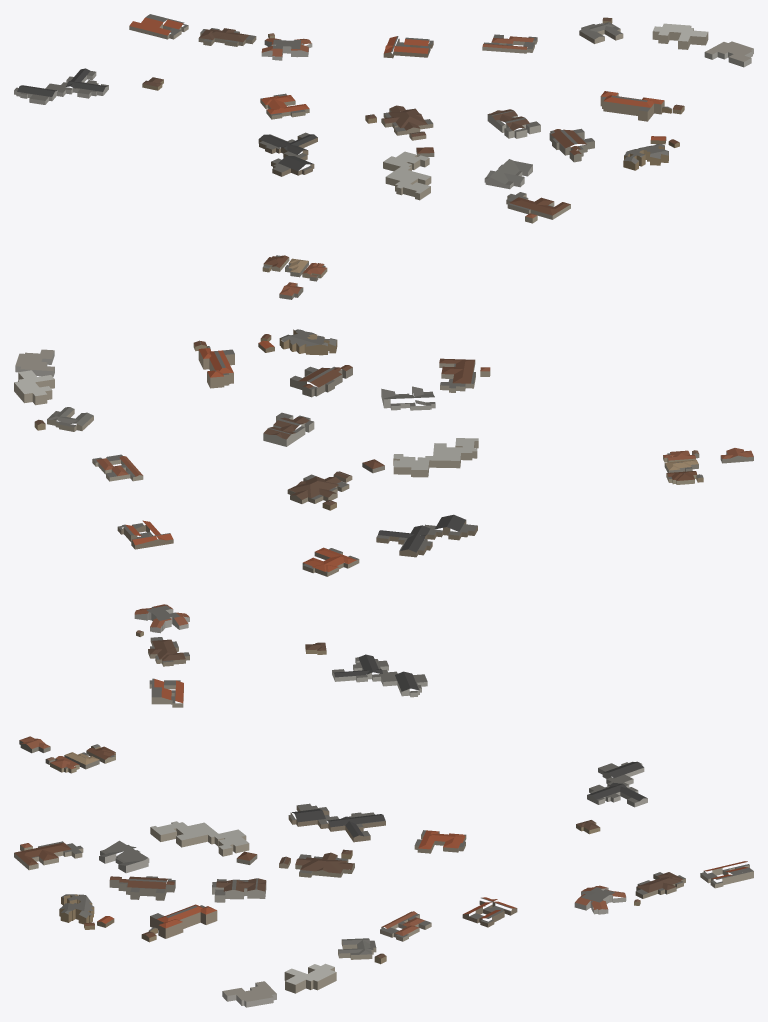
3 views of the same model, one above another, from view 1: azimuth 30°, elevation 25°; view 2: azimuth 150°, elevation 25°; view 3: azimuth 270°, elevation 25° (orthographic). The views are drawn at different scales.
Visible parts, largest first — view 1: buildings_r6_c2_lod1; view 2: buildings_r6_c2_lod1; view 3: buildings_r6_c2_lod1.
Part boxes in pixels (<box>): buildings_r6_c2_lod1: <box>14,14,753,299</box>; buildings_r6_c2_lod1: <box>14,329,753,707</box>; buildings_r6_c2_lod1: <box>14,736,753,1007</box>.
Size of the model in its own units: 557 by 64.23 by 587.
